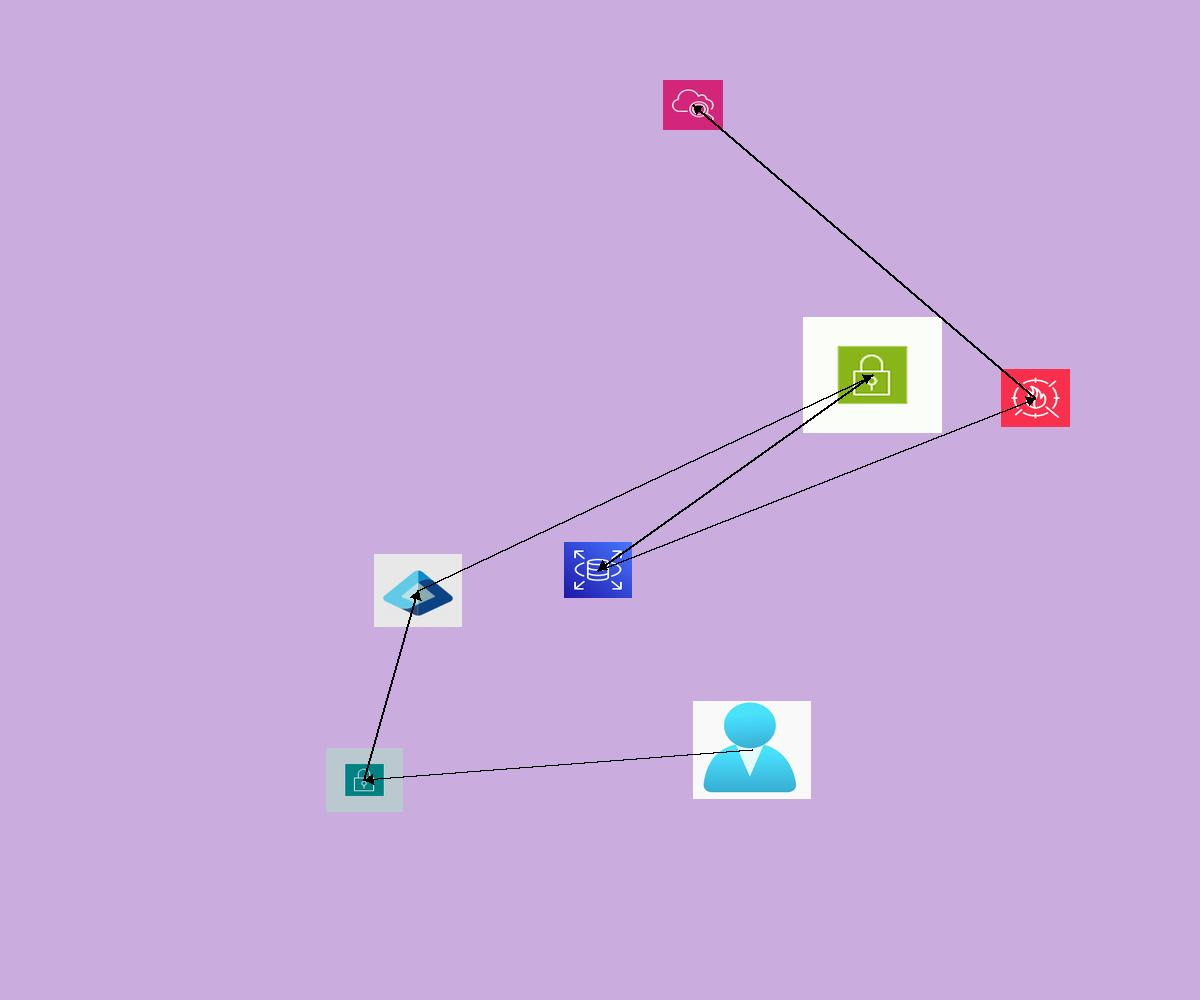AWS-CloudWatch: (663, 80, 723, 130)
AWS-Private-subnet: (326, 748, 403, 812)
AWS-Public-subnet: (803, 317, 942, 433)
AWS-RDS: (564, 542, 632, 598)
AWS-WAF: (1001, 369, 1070, 427)
Azure_microsoft_entra: (374, 554, 462, 627)
Azure_users: (693, 701, 811, 799)
